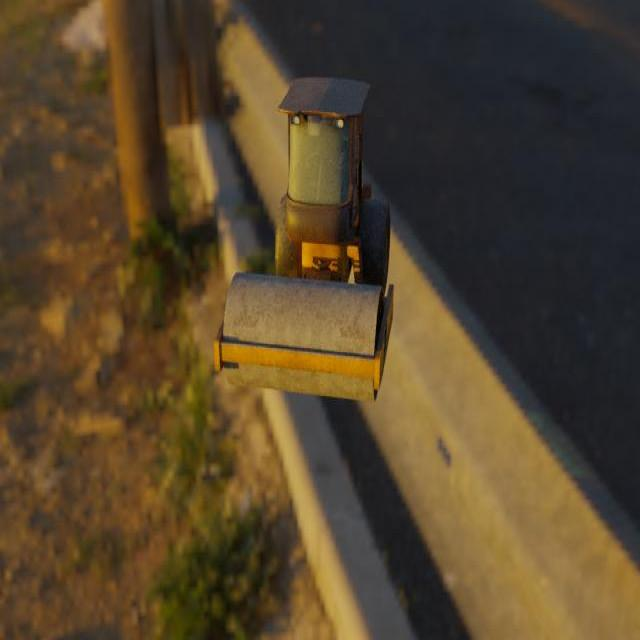Roller: (213, 78, 394, 402)
